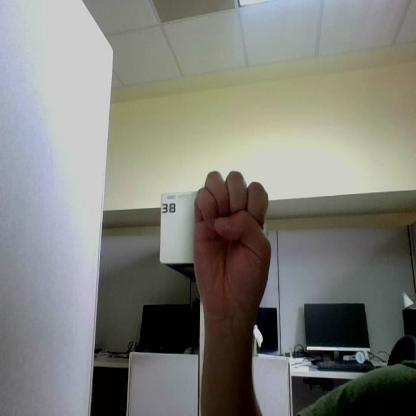S: (194, 172, 271, 310)
